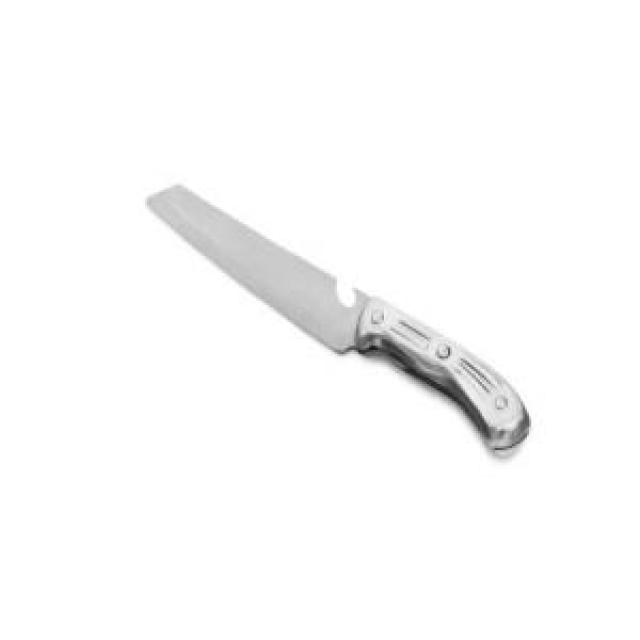knife: (138, 179, 540, 462)
